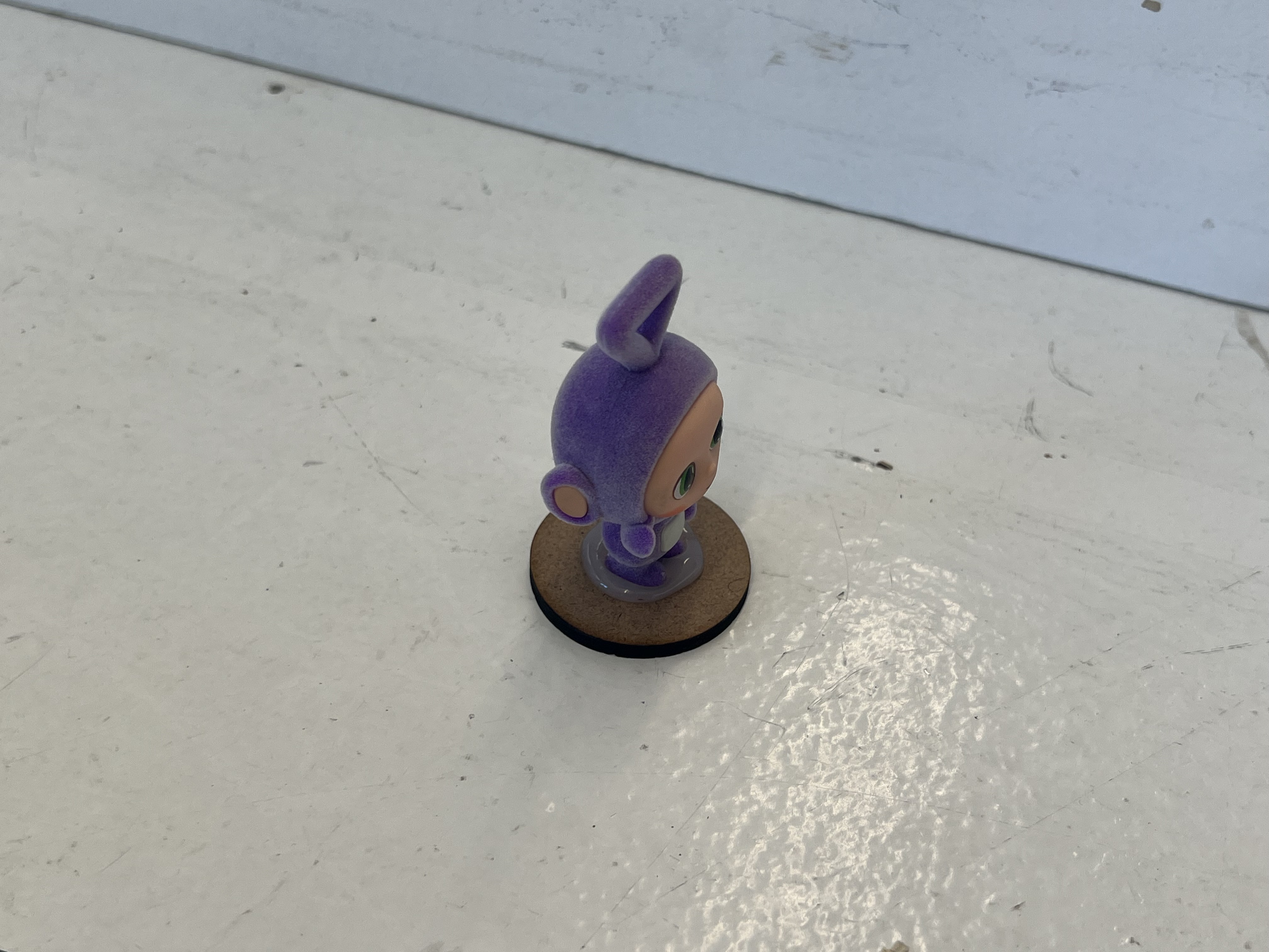teletubby: (541, 255, 724, 586)
